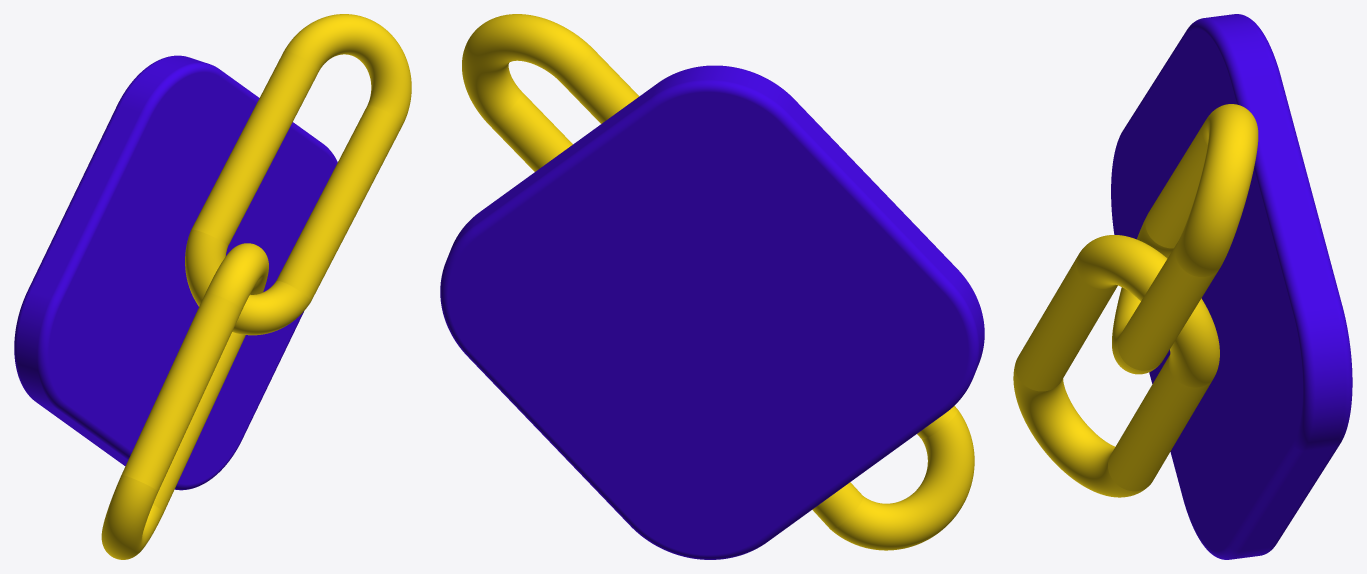
File: chain-link.fbx
3 renders of one model, left to right at view 1: azimuth 30°, elevation 25°; view 2: azimuth 150°, elevation 25°; view 3: azimuth 270°, elevation 25°, orthographic. The views are drawn at different scales.
Visible parts, largest first — view 1: Chain (×3); view 2: Chain (×3); view 3: Chain (×3).
Part boxes in pixels (x1,y1,x2,y2): Chain (×3): (14, 14, 411, 559); Chain (×3): (440, 14, 984, 559); Chain (×3): (1013, 14, 1352, 559).
Size of the model in its own units: 238 by 237 by 136.
